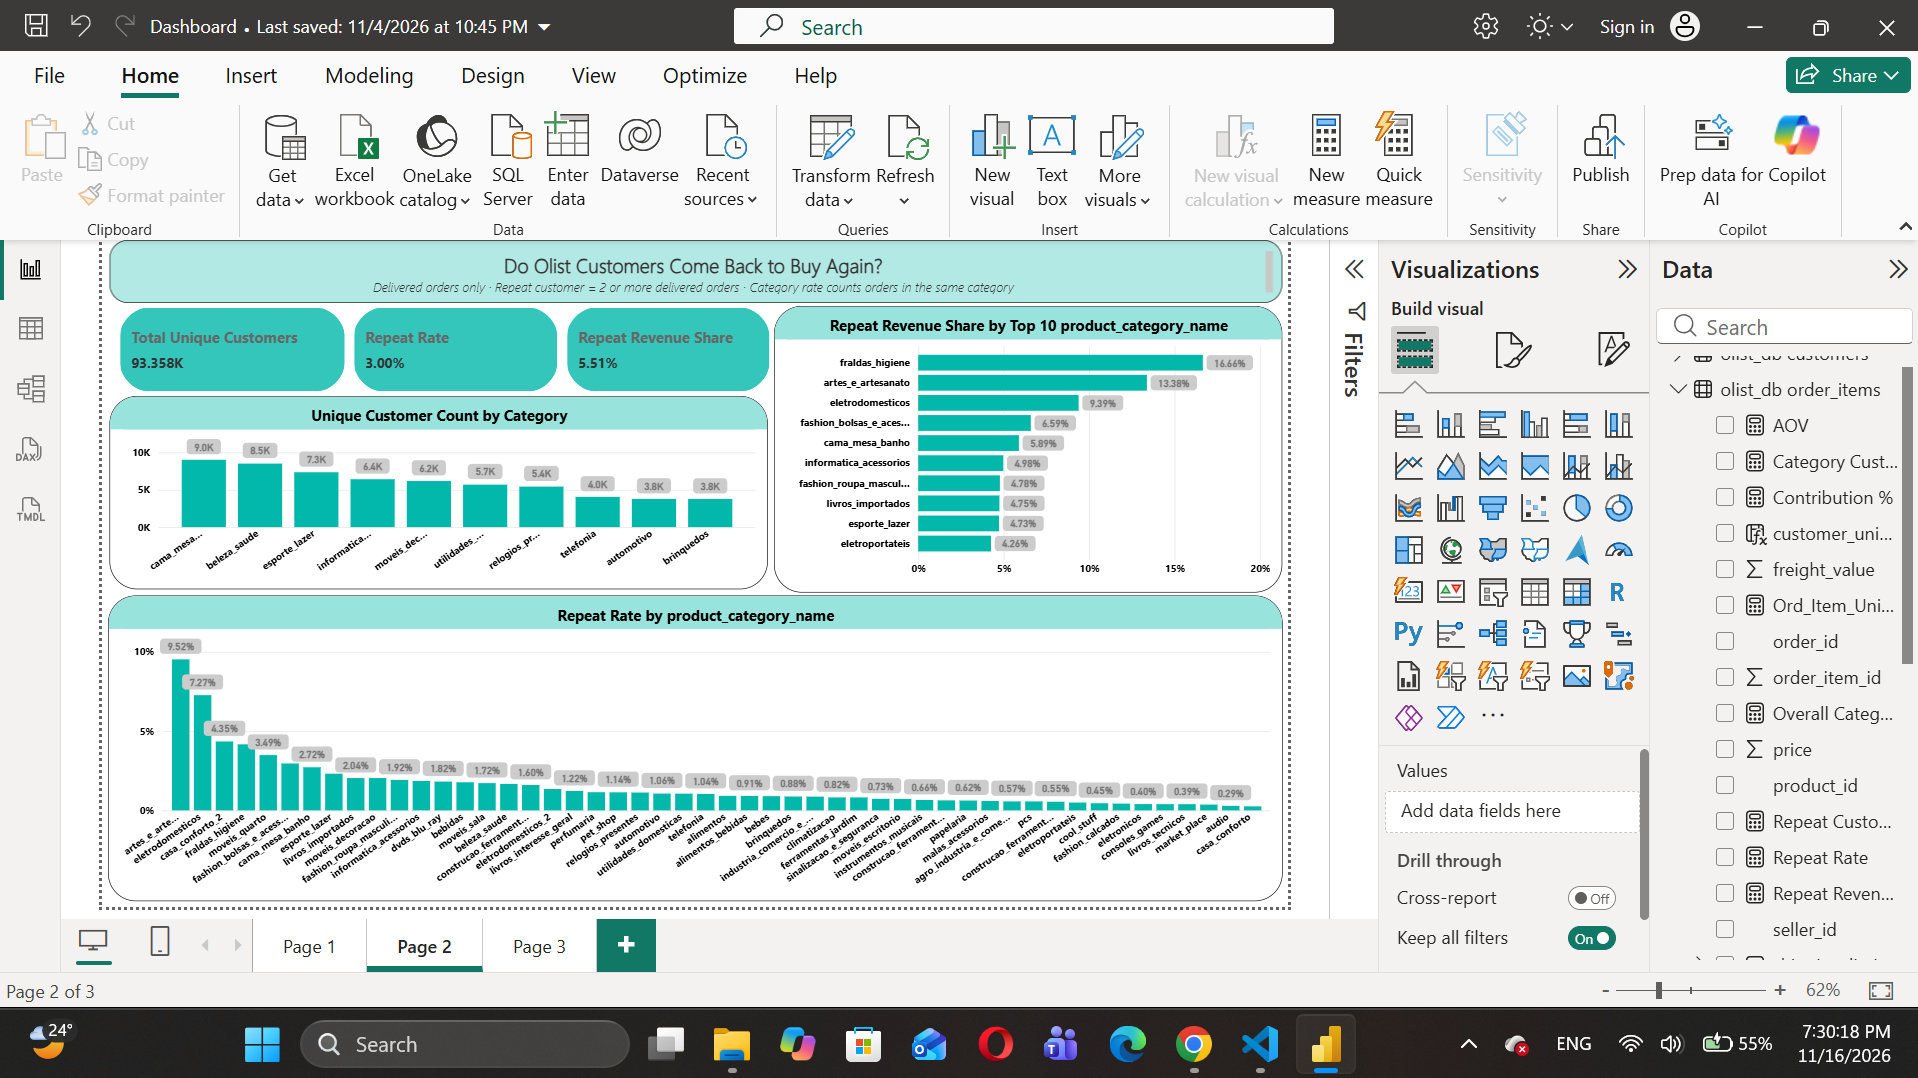

The dashboard page shown, as its layout file describes it:
{"tool":"powerbi","page":{"name":"Page 2","canvas":[1280,720],"ordinal":1},"visuals":[{"type":"cardVisual","fields":{"Data":["olist_db order_items.Total Unique Customers"]},"box":[14.6,68,252.6,100.4],"z":0},{"type":"cardVisual","fields":{"Data":["olist_db order_items.Repeat Rate"]},"box":[267.2,68,229.9,100.4],"z":1000},{"type":"cardVisual","fields":{"Data":["olist_db order_items.Repeat Revenue Share"]},"box":[497.1,68,228.3,100.4],"z":2000},{"type":"columnChart","fields":{"Category":["olist_db product_category_translation.product_category_name"],"Y":["olist_db order_items.Repeat Rate"]},"box":[6.5,383.8,1267.9,330.3],"z":3000},{"type":"barChart","title":"Repeat Revenue Share by Top 10 product_category_name","fields":{"Category":["olist_db product_category_translation.product_category_name"],"Y":["olist_db order_items.Repeat Revenue Share"]},"box":[725.4,71.2,548.9,309.3],"z":4000},{"type":"columnChart","title":"Unique Customer Count by Category","fields":{"Category":["olist_db products.product_category_name"],"Y":["olist_db order_items.Ord_Item_Unique_Customer_Count"]},"box":[8.1,168.4,710.8,208.9],"z":5000},{"type":"textbox","box":[8.1,0,1266.2,68],"z":6000}]}

Visuals, with their boxes on the page's 1280x720 design canvas (x1, y1, x2, y2). These are canvas units, not pixel positions in the 1918x1078 screenshot, which may show the page scaled, cropped or inside an application window:
cardVisual - olist_db order_items.Total Unique Customers: [left=15, top=68, right=267, bottom=168]
cardVisual - olist_db order_items.Repeat Rate: [left=267, top=68, right=497, bottom=168]
cardVisual - olist_db order_items.Repeat Revenue Share: [left=497, top=68, right=725, bottom=168]
columnChart - olist_db product_category_translation.product_category_name x olist_db order_items.Repeat Rate: [left=6, top=384, right=1274, bottom=714]
"Repeat Revenue Share by Top 10 product_category_name" barChart: [left=725, top=71, right=1274, bottom=380]
"Unique Customer Count by Category" columnChart: [left=8, top=168, right=719, bottom=377]
textbox: [left=8, top=0, right=1274, bottom=68]
